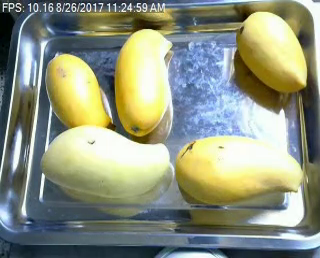Mango: (39, 126, 168, 197), (176, 135, 302, 204), (114, 28, 170, 136), (237, 10, 307, 91), (43, 54, 111, 129)
